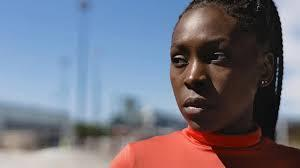person: (163, 0, 288, 143)
